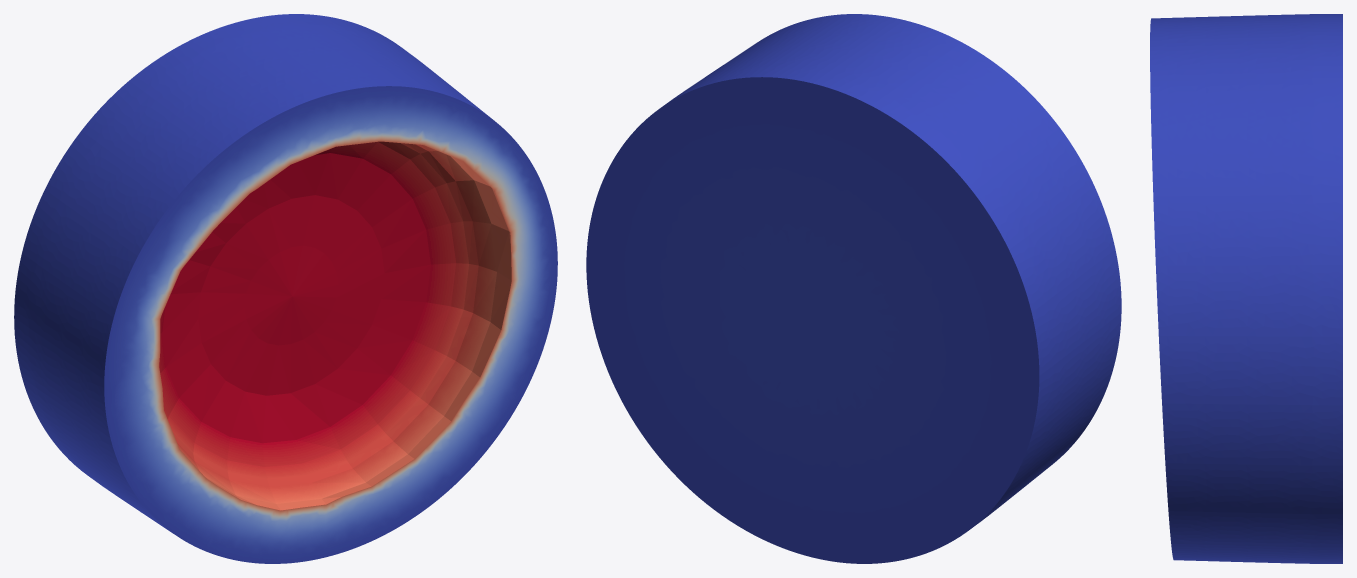
Rendered from hcut.glb.
3 views of the same model, side by side, from view 1: azimuth 30°, elevation 25°; view 2: azimuth 150°, elevation 25°; view 3: azimuth 270°, elevation 25° (orthographic). The views are drawn at different scales.
Visible parts, largest first — view 1: Renderer Node; view 2: Renderer Node; view 3: Renderer Node.
Part boxes in pixels (x1,y1,x2,y2): Renderer Node: (14, 14, 557, 563); Renderer Node: (586, 14, 1121, 563); Renderer Node: (1150, 14, 1342, 563).
Bounding box in the file's own units: 12.46 × 12.46 × 4.37.
Materials: 1 (1 with a texture image).
